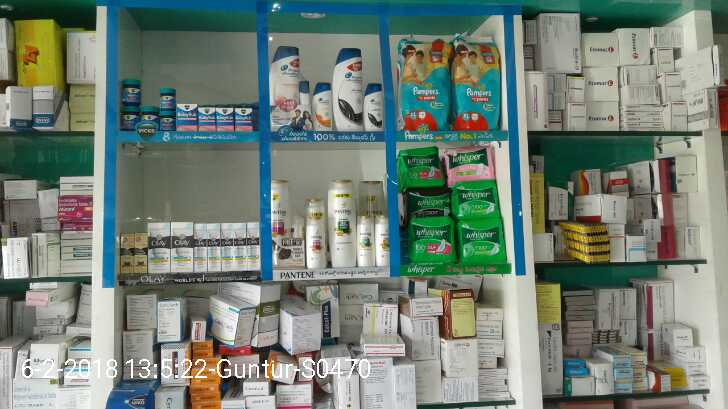beauty: (326, 174, 357, 269), (333, 48, 365, 131), (269, 42, 297, 136), (306, 199, 325, 270), (169, 220, 193, 271), (149, 222, 171, 276), (312, 78, 332, 136), (354, 213, 375, 266), (207, 222, 222, 276), (364, 82, 381, 128), (233, 223, 249, 271), (375, 216, 389, 267), (220, 222, 233, 272), (195, 224, 207, 274), (120, 232, 134, 273), (133, 232, 147, 272), (252, 219, 258, 270)
pharmacy: (450, 35, 505, 130), (399, 35, 450, 132), (408, 215, 456, 261), (457, 219, 506, 261), (393, 146, 444, 186), (404, 181, 450, 220), (451, 183, 502, 218), (442, 147, 499, 178), (175, 102, 198, 133), (120, 77, 142, 105), (197, 106, 216, 133), (141, 110, 161, 134), (118, 106, 138, 130), (233, 107, 254, 129), (158, 87, 175, 111), (158, 109, 176, 131), (216, 106, 233, 128)
